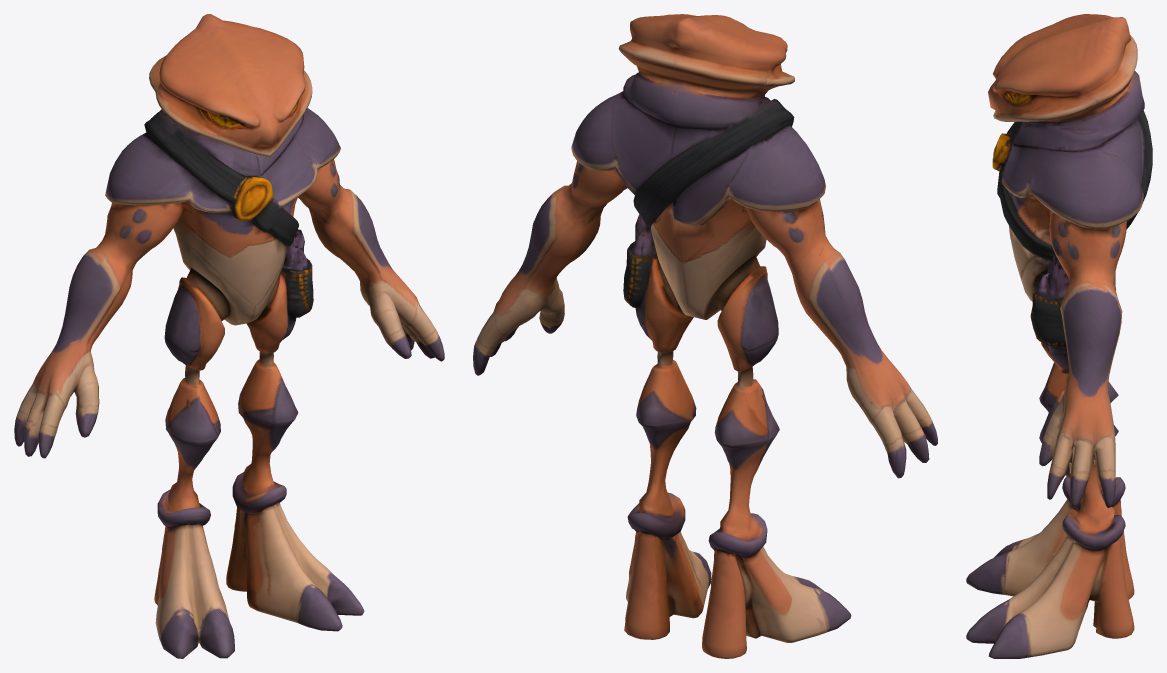
The model's file is chr_npc_mira.glb.
The picture shows the model from 3 angles, left to right: view 1: azimuth 30°, elevation 25°; view 2: azimuth 150°, elevation 25°; view 3: azimuth 270°, elevation 25°; orthographic projection. The views are drawn at different scales.
Parts seen in each view (by area): view 1: MIRA_MINIMAL_TOPOLOGY_REPAIR_TEXTURED_V01; view 2: MIRA_MINIMAL_TOPOLOGY_REPAIR_TEXTURED_V01; view 3: MIRA_MINIMAL_TOPOLOGY_REPAIR_TEXTURED_V01.
Boxes of the visible parts, left/top/right/bottom form: MIRA_MINIMAL_TOPOLOGY_REPAIR_TEXTURED_V01: left=14, top=14, right=444, bottom=658; MIRA_MINIMAL_TOPOLOGY_REPAIR_TEXTURED_V01: left=473, top=14, right=937, bottom=658; MIRA_MINIMAL_TOPOLOGY_REPAIR_TEXTURED_V01: left=966, top=14, right=1152, bottom=658.
Size of the model in its own units: 0.8325 by 1.12 by 0.3174.
1 material, 1 textured.
